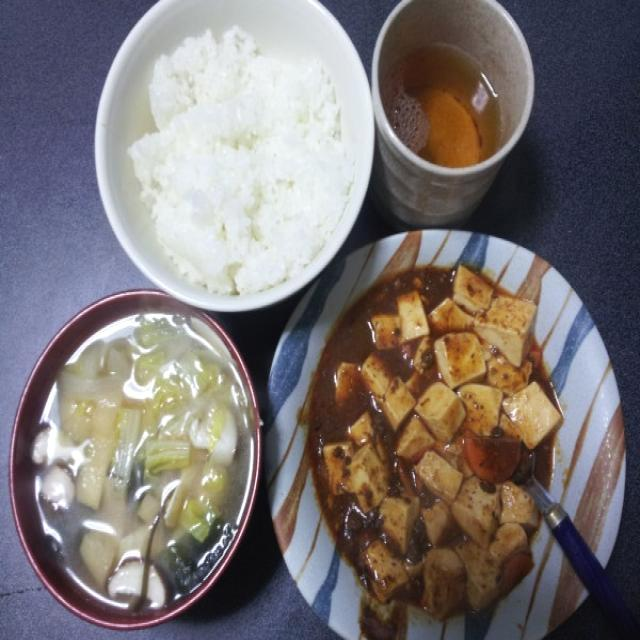Rice: (127, 35, 351, 278)
